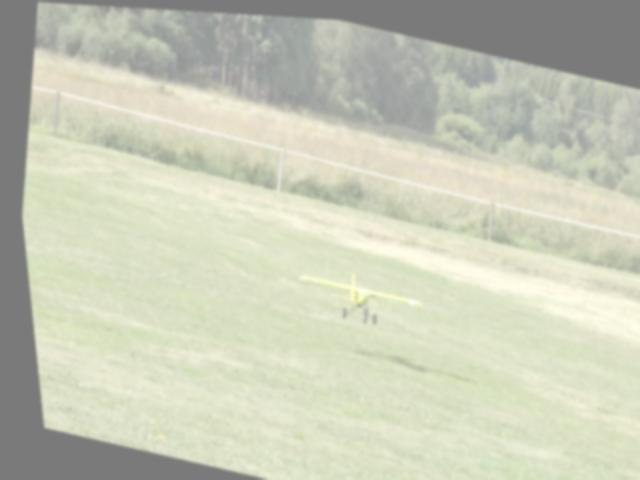plane: (286, 257, 421, 331)
